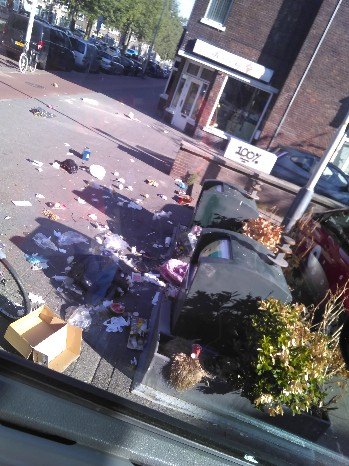Container: (187, 232, 281, 324), (200, 181, 256, 224)
GFT: (216, 317, 337, 407), (250, 218, 292, 240)
Papier: (18, 309, 77, 365)
Rest: (80, 250, 145, 325), (153, 246, 186, 295)
